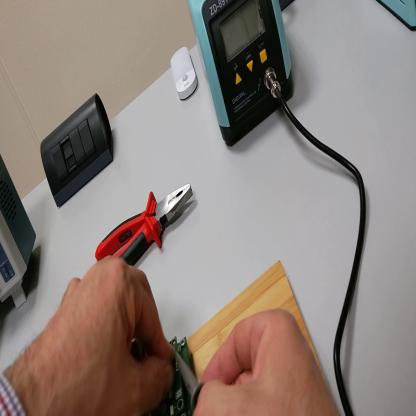hand: (5, 255, 173, 416), (194, 305, 337, 415)
low voltage board: (163, 335, 197, 415)
oscilloscope: (2, 155, 38, 309)
oscilloscope probe tip: (176, 352, 203, 413)
pliers: (96, 177, 196, 269)
socket: (280, 1, 295, 11)
welder base: (376, 1, 416, 32)
welder station: (189, 2, 296, 150)
